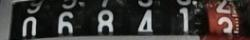digits: (136, 10, 154, 36), (96, 9, 113, 36), (56, 12, 74, 36), (217, 17, 234, 37), (178, 7, 189, 36), (22, 17, 37, 36)
